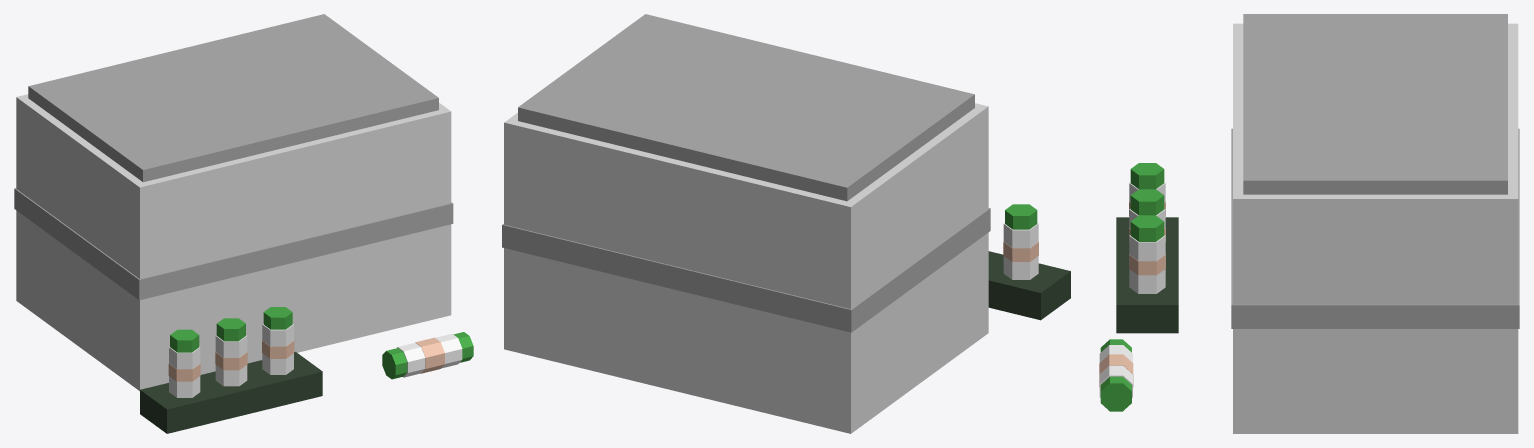
Rendered from ce_ammo2_fuel30_foam_c.obj.
3 views of the same model, side by side, from view 1: azimuth 30°, elevation 25°; view 2: azimuth 150°, elevation 25°; view 3: azimuth 270°, elevation 25° (orthographic). The views are drawn at different scales.
Visible parts, largest first — view 1: ce_ammo2_fuel30_foam_c_0, ce_ammo2_fuel30_foam_c_1, ce_ammo2_fuel30_foam_c_2, ce_ammo2_fuel30_foam_c_3, ce_ammo2_fuel30_foam_c_18, ce_ammo2_fuel30_foam_c_16, ce_ammo2_fuel30_foam_c_7, ce_ammo2_fuel30_foam_c_11, ce_ammo2_fuel30_foam_c_17, ce_ammo2_fuel30_foam_c_15, ce_ammo2_fuel30_foam_c_19, ce_ammo2_fuel30_foam_c_6 (+5 smaller); view 2: ce_ammo2_fuel30_foam_c_0, ce_ammo2_fuel30_foam_c_1, ce_ammo2_fuel30_foam_c_2, ce_ammo2_fuel30_foam_c_3, ce_ammo2_fuel30_foam_c_7, ce_ammo2_fuel30_foam_c_6, ce_ammo2_fuel30_foam_c_4; view 3: ce_ammo2_fuel30_foam_c_0, ce_ammo2_fuel30_foam_c_1, ce_ammo2_fuel30_foam_c_2, ce_ammo2_fuel30_foam_c_3, ce_ammo2_fuel30_foam_c_20, ce_ammo2_fuel30_foam_c_11, ce_ammo2_fuel30_foam_c_7, ce_ammo2_fuel30_foam_c_15, ce_ammo2_fuel30_foam_c_14, ce_ammo2_fuel30_foam_c_12, ce_ammo2_fuel30_foam_c_13, ce_ammo2_fuel30_foam_c_18 (+1 smaller).
Part boxes in pixels (x1,y1,x2,y2): ce_ammo2_fuel30_foam_c_0: [16, 94, 451, 390]; ce_ammo2_fuel30_foam_c_1: [28, 14, 438, 182]; ce_ammo2_fuel30_foam_c_2: [14, 188, 453, 300]; ce_ammo2_fuel30_foam_c_3: [140, 352, 322, 433]; ce_ammo2_fuel30_foam_c_18: [415, 337, 444, 373]; ce_ammo2_fuel30_foam_c_16: [382, 348, 407, 379]; ce_ammo2_fuel30_foam_c_7: [170, 329, 199, 352]; ce_ammo2_fuel30_foam_c_11: [216, 318, 245, 341]; ce_ammo2_fuel30_foam_c_17: [397, 343, 425, 377]; ce_ammo2_fuel30_foam_c_15: [263, 307, 292, 329]; ce_ammo2_fuel30_foam_c_19: [435, 333, 462, 368]; ce_ammo2_fuel30_foam_c_6: [169, 346, 200, 369]; ce_ammo2_fuel30_foam_c_0: [504, 103, 988, 433]; ce_ammo2_fuel30_foam_c_1: [518, 14, 974, 201]; ce_ammo2_fuel30_foam_c_2: [502, 208, 990, 332]; ce_ammo2_fuel30_foam_c_3: [988, 251, 1070, 320]; ce_ammo2_fuel30_foam_c_7: [1005, 204, 1037, 229]; ce_ammo2_fuel30_foam_c_6: [1003, 223, 1038, 248]; ce_ammo2_fuel30_foam_c_4: [1003, 256, 1038, 279]; ce_ammo2_fuel30_foam_c_0: [1233, 23, 1518, 433]; ce_ammo2_fuel30_foam_c_1: [1243, 14, 1507, 194]; ce_ammo2_fuel30_foam_c_2: [1231, 128, 1519, 328]; ce_ammo2_fuel30_foam_c_3: [1116, 217, 1178, 333]; ce_ammo2_fuel30_foam_c_20: [1100, 376, 1131, 411]; ce_ammo2_fuel30_foam_c_11: [1130, 189, 1164, 215]; ce_ammo2_fuel30_foam_c_7: [1130, 163, 1164, 189]; ce_ammo2_fuel30_foam_c_15: [1130, 215, 1164, 241]; ce_ammo2_fuel30_foam_c_14: [1129, 235, 1165, 261]; ce_ammo2_fuel30_foam_c_12: [1129, 269, 1165, 293]; ce_ammo2_fuel30_foam_c_13: [1129, 254, 1165, 275]; ce_ammo2_fuel30_foam_c_18: [1099, 354, 1133, 387].
Size of the model in its own units: 0.863 by 0.53 by 0.811.
